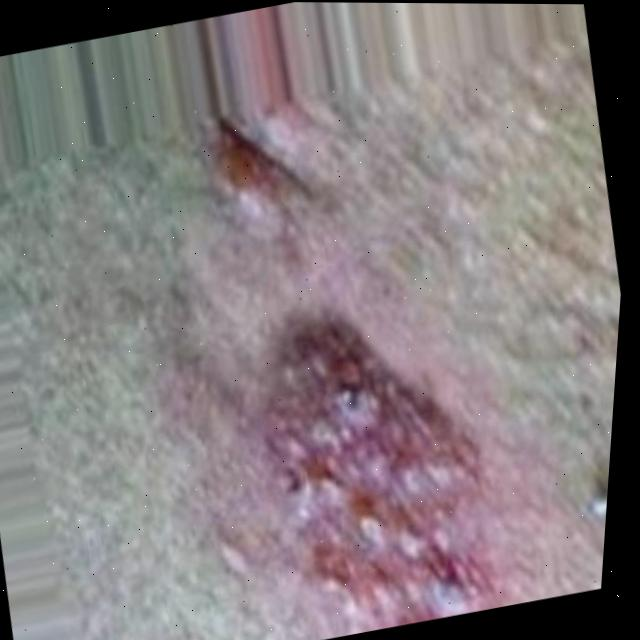Shingles: (253, 320, 523, 640)
